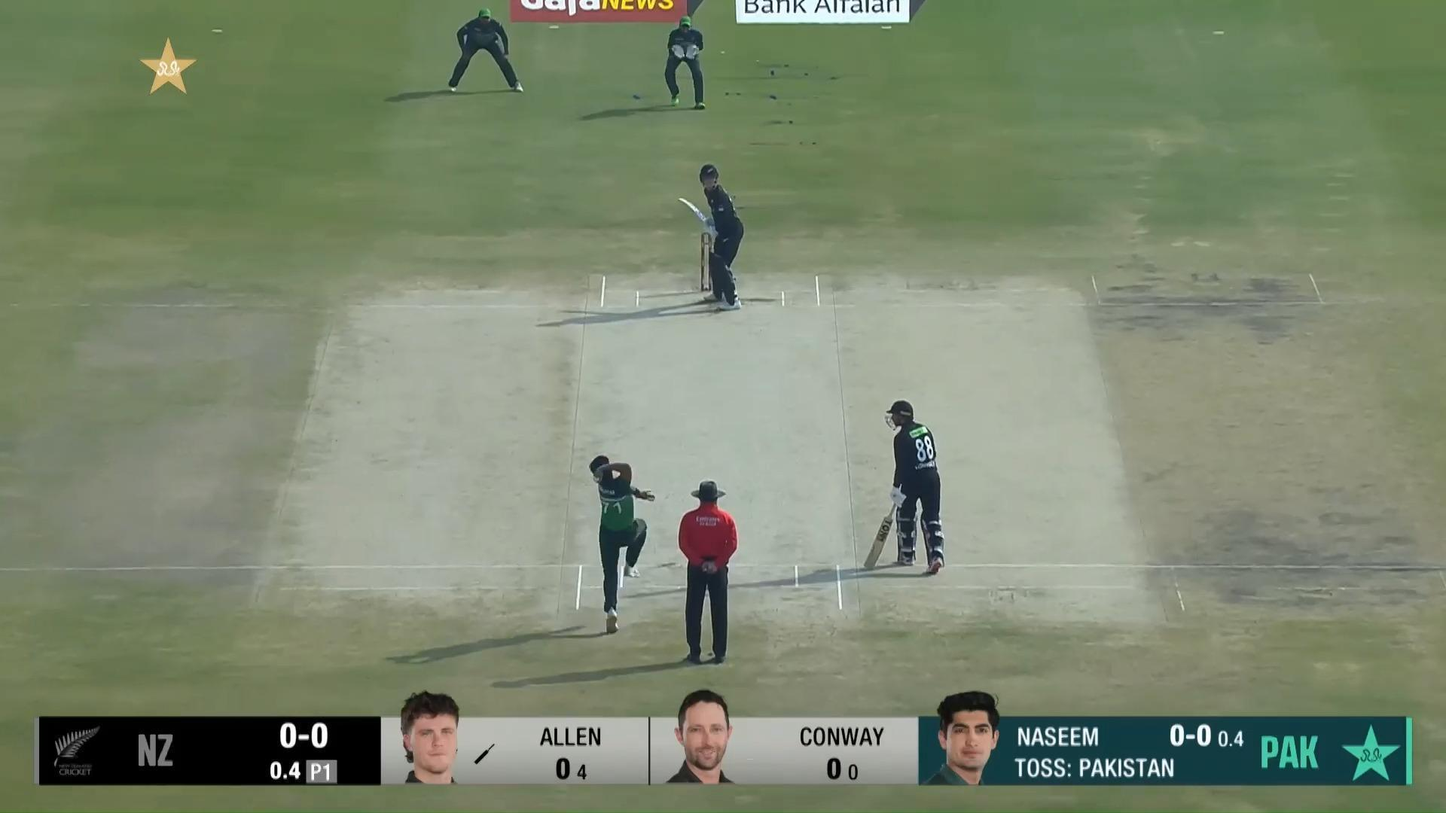BM 1: (678, 163, 744, 311)
BO: (587, 453, 657, 635)
